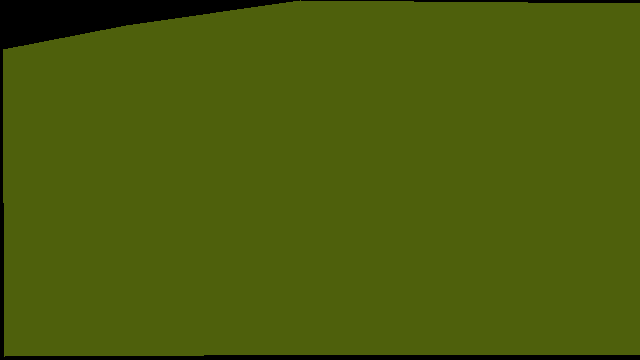Train: (3, 0, 640, 356)
